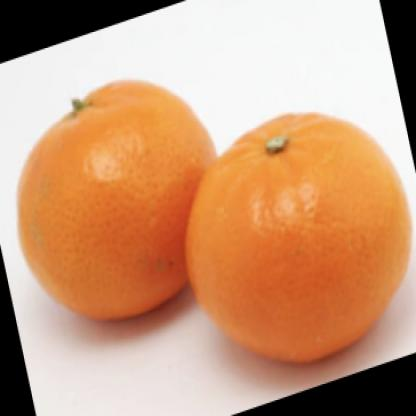orange: (185, 110, 412, 360), (16, 71, 202, 324)
